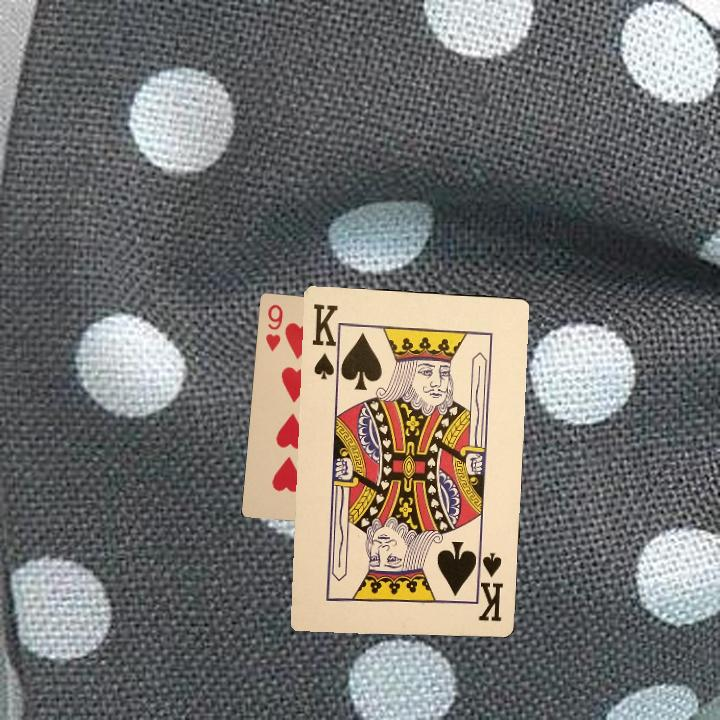9h: (261, 300, 285, 353)
Ks: (308, 299, 345, 379), (473, 544, 506, 624)
